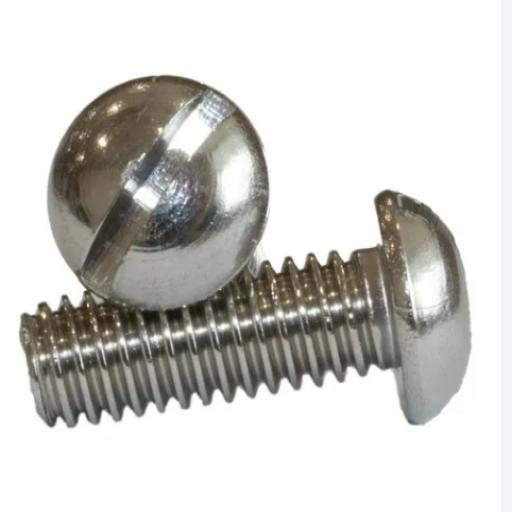Slotted: (46, 75, 266, 307)
